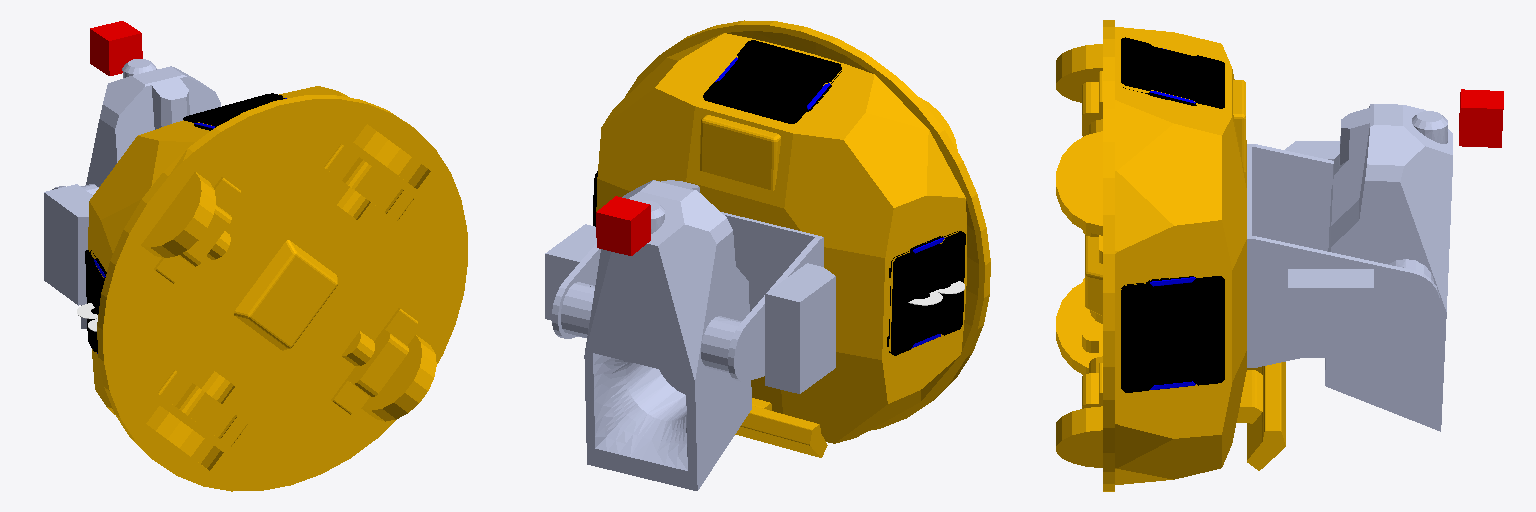
The robot description file, URDF, robot "infantry":
<?xml version="1.0" encoding="utf-8"?>
<!-- This URDF was automatically created by SolidWorks to URDF Exporter! Originally created by
[author] ([email redacted]) 
     Commit Version: 1.6.0-4-g7f85cfe  Build Version: 1.6.7995.38578
     For more information, please see http://wiki.ros.org/sw_urdf_exporter -->
<robot
    name="infantry">


    <link name="root">
        <inertial>
            <mass value="0" />
            <inertia ixx="0.00" ixy="0.00" ixz="0.00" iyy="0.00" iyz="0.00" izz="0.00" />
        </inertial>
    </link>
    <link name="root_base_1_link_1">
        <inertial>
            <mass value="0" />
            <inertia ixx="0.00" ixy="0.00" ixz="0.00" iyy="0.00" iyz="0.00" izz="0.00" />
        </inertial>
    </link>
    <link name="root_base_1_link_2">
        <inertial>
            <mass value="0" />
            <inertia ixx="0.00" ixy="0.00" ixz="0.00" iyy="0.00" iyz="0.00" izz="0.00" />
        </inertial>
    </link>
    <joint name="root_z_axis_joint" type="prismatic">
        <parent link="root" />
        <child link="root_base_1_link_1" />
        <axis xyz="0 0 1" />
        <limit effort="100" lower="-20" upper="20" velocity="0.50" />
        <dynamics damping="10.0" friction="10" />
    </joint>
    <joint name="root_x_axis_joint" type="prismatic">
        <parent link="root_base_1_link_1" />
        <child link="root_base_1_link_2" />
        <axis xyz="1 0 0" />
        <limit effort="100" lower="-20" upper="20" velocity="0.50" />
        <dynamics damping="10.0" friction="10" />
    </joint>
    <joint name="root_y_rotation_joint" type="continuous">
        <parent link="root_base_1_link_2" />
        <child link="base_link" />
        <axis xyz="0 1 0" />
        <dynamics damping="10.0" friction="1" />
    </joint>


    <link
        name="base_link">
        <inertial>
            <origin
                xyz="6.06925946495807E-05 -0.0951517381837546 -0.00195378661860102"
                rpy="0 0 0" />
            <mass
                value="31.9580603600281" />
            <inertia
                ixx="0.575658821423168"
                ixy="-0.000232623478846163"
                ixz="0.000372103192936311"
                iyy="0.975286073242314"
                iyz="0.00748853471499854"
                izz="0.562657367224856" />
        </inertial>
        <visual>
            <origin
                xyz="0 0 0"
                rpy="0 0 0" />
            <geometry>
                <mesh
                    filename="package://infantry/meshes/base_link.STL" />
            </geometry>
            <material
                name="base_link">
                <color
                    rgba="0.984 0.737 0.020 1" />
            </material>
        </visual>
        <collision>
            <origin
                xyz="0 -0.17 0"
                rpy="1.57 0 0" />
            <geometry>
                <cylinder radius="0.28" length="0.002" />
            </geometry>
        </collision>
    </link>
    <link
        name="mount_link">
        <inertial>
            <origin
                xyz="-0.010489 0.09779 -1.1047E-09"
                rpy="0 0 0" />
            <mass
                value="2.1267" />
            <inertia
                ixx="0.0095801"
                ixy="-7.7406E-05"
                ixz="2.458E-11"
                iyy="0.041997"
                iyz="-7.3513E-10"
                izz="0.046704" />
        </inertial>
        <visual>
            <origin
                xyz="0 0 0"
                rpy="0 0 0" />
            <geometry>
                <mesh
                    filename="package://infantry/meshes/mount_link.STL" />
            </geometry>
            <material
                name="mount_link">
                <color
                    rgba="0.79216 0.81961 0.93333 1" />
            </material>
        </visual>
        <!-- <collision>
            <origin
                xyz="0 0 0"
                rpy="0 0 0" />
            <geometry>
                <mesh
                    filename="package://infantry/meshes/mount_link.STL" />
            </geometry>
        </collision> -->
    </link>
    <joint
        name="yaw_joint"
        type="continuous">
        <origin
            xyz="0 0 0"
            rpy="0 0 0" />
        <parent
            link="base_link" />
        <child
            link="mount_link" />
        <axis
            xyz="0 1 0" />
    </joint>
    <link
        name="turret_link">
        <inertial>
            <origin
                xyz="-2.0482E-05 -0.019429 0.0081579"
                rpy="0 0 0" />
            <mass
                value="5.2999" />
            <inertia
                ixx="0.053074"
                ixy="5.1204E-07"
                ixz="-3.5196E-05"
                iyy="0.057288"
                iyz="-0.00072947"
                izz="0.019007" />
        </inertial>
        <visual>
            <origin
                xyz="0 0 0"
                rpy="0 0 0" />
            <geometry>
                <mesh
                    filename="package://infantry/meshes/turret_link.STL" />
            </geometry>
            <material
                name="turret_link">
                <color
                    rgba="0.79216 0.81961 0.93333 1" />
            </material>
        </visual>
        <!-- <collision>
            <origin
                xyz="0 0 0"
                rpy="0 0 0" />
            <geometry>
                <mesh
                    filename="package://infantry/meshes/turret_link.STL" />
            </geometry>
        </collision> -->
    </link>
    <joint
        name="pitch_joint"
        type="revolute">
        <origin
            xyz="0 0.1845 0"
            rpy="-0.042847 0 0" />
        <parent
            link="mount_link" />
        <child
            link="turret_link" />
        <axis
            xyz="1 0 0" />
        <limit
            lower="-1.7"
            upper="1.7"
            effort="0"
            velocity="0" />
    </joint>
    <link name="camera_link">
        <visual>
            <geometry>
                <box size="0.05 0.05 0.05" />
            </geometry>
            <material name="debug_color">
                <color rgba="0.98 0 0 1" />
            </material>
        </visual>
    </link>
    <joint
        name="camera_joint"
        type="fixed">
        <parent link="turret_link" />
        <child link="camera_link" />
        <origin xyz="0 0.08 0.18" rpy="0 0 0" />
    </joint>
    <link
        name="plates_link">
        <inertial>
            <origin
                xyz="0 0 0"
                rpy="0 0 0" />
            <mass
                value="0" />
            <inertia
                ixx="0"
                ixy="0"
                ixz="0"
                iyy="0"
                iyz="0"
                izz="0" />
        </inertial>
        <visual>
            <origin
                xyz="0 0 0"
                rpy="0 0 0" />
            <geometry>
                <mesh
                    filename="package://infantry/meshes/plates_link.STL" />
            </geometry>
            <material
                name="plates_link">
                <color
                    rgba="0 0 0 1" />
            </material>
        </visual>
        <!-- <collision>
            <origin
                xyz="0 0 0"
                rpy="0 0 0" />
            <geometry>
                <mesh
                    filename="package://infantry/meshes/plates_link.STL" />
            </geometry>
        </collision> -->
    </link>
    <joint
        name="plates_joint"
        type="fixed">
        <origin
            xyz="-0.25574 -0.14582 -0.05297"
            rpy="3.1336 0.029996 2.8797" />
        <parent
            link="base_link" />
        <child
            link="plates_link" />
        <axis
            xyz="0 0 0" />
    </joint>
    <link
        name="lightbars_link">
        <inertial>
            <origin
                xyz="-0.23324 0.0044453 -0.045003"
                rpy="0 0 0" />
            <mass
                value="0.0025567" />
            <inertia
                ixx="5.3526E-07"
                ixy="1.3073E-07"
                ixz="-1.4311E-13"
                iyy="8.2392E-08"
                iyz="5.3408E-13"
                izz="5.7029E-07" />
        </inertial>
        <visual>
            <origin
                xyz="0 0 0"
                rpy="0 0 0" />
            <geometry>
                <mesh
                    filename="package://infantry/meshes/lightbars_link.STL" />
            </geometry>
            <material
                name="lightbars_link">
                <color
                    rgba="0 0 1 1" />
            </material>
        </visual>
        <!-- <collision>
            <origin
                xyz="0 0 0"
                rpy="0 0 0" />
            <geometry>
                <mesh
                    filename="package://infantry/meshes/lightbars_link.STL" />
            </geometry>
        </collision> -->
    </link>
    <joint
        name="lightbars_joint"
        type="fixed">
        <origin
            xyz="0 0.12792 -0.090009"
            rpy="-3.1416 0 0" />
        <parent
            link="plates_link" />
        <child
            link="lightbars_link" />
        <axis
            xyz="0 0 0" />
    </joint>
    <link
        name="numbers_link">
        <inertial>
            <origin
                xyz="8.3148E-10 -0.060203 0.22515"
                rpy="0 0 0" />
            <mass
                value="0.0010445" />
            <inertia
                ixx="1.3876E-06"
                ixy="2.4538E-21"
                ixz="-7.1633E-21"
                iyy="4.7391E-07"
                iyz="-2.4482E-07"
                izz="1.322E-06" />
        </inertial>
        <visual>
            <origin
                xyz="0 0 0"
                rpy="0 0 0" />
            <geometry>
                <mesh
                    filename="package://infantry/meshes/numbers_link.STL" />
            </geometry>
            <material
                name="numbers_link">
                <color
                    rgba="1 1 1 1" />
            </material>
        </visual>
        <!-- <collision>
            <origin
                xyz="0 0 0"
                rpy="0 0 0" />
            <geometry>
                <mesh
                    filename="package://infantry/meshes/numbers_link.STL" />
            </geometry>
        </collision> -->
    </link>
    <joint
        name="numbers_joint"
        type="fixed">
        <origin
            xyz="-0.007907 0.063961 -0.045004"
            rpy="3.1416 1.5708 0" />
        <parent
            link="plates_link" />
        <child
            link="numbers_link" />
        <axis
            xyz="0 0 0" />
    </joint>
</robot>

--- Render facts (derived) ---
Views: 3 orthographic renders of the robot side by side, from view 1: azimuth 30°, elevation 25°; view 2: azimuth 150°, elevation 25°; view 3: azimuth 270°, elevation 25°.
Model infantry with 10 links and 9 joints (1 revolute, 2 continuous, 2 prismatic, 4 fixed), rooted at root, posed all joints at 0.
Visible links, largest first — view 1: base_link, turret_link, mount_link, camera_link, plates_link; view 2: base_link, turret_link, mount_link, plates_link, camera_link; view 3: base_link, mount_link, turret_link, plates_link, camera_link, lightbars_link.
Link boxes in pixels (<box>): base_link: <box>88,86,467,491</box>; turret_link: <box>81,59,220,328</box>; mount_link: <box>44,184,98,305</box>; camera_link: <box>90,21,142,75</box>; plates_link: <box>85,93,284,352</box>; base_link: <box>596,20,990,457</box>; turret_link: <box>584,180,751,490</box>; mount_link: <box>545,212,835,393</box>; plates_link: <box>593,40,965,355</box>; camera_link: <box>596,196,650,255</box>; base_link: <box>1056,20,1285,491</box>; mount_link: <box>1247,141,1439,367</box>; turret_link: <box>1325,104,1452,431</box>; plates_link: <box>1121,37,1224,392</box>; camera_link: <box>1459,89,1503,147</box>; lightbars_link: <box>1150,48,1195,389</box>.
Size in the robot's own frame: 0.5493 by 0.5205 by 0.5497 metres.
6 mesh visuals loaded from 6 distinct referenced files (6 binary STL).